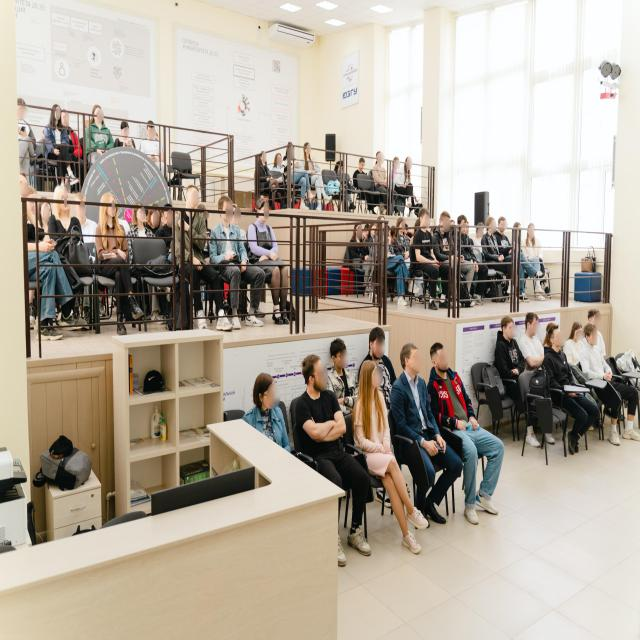Person: (297, 348, 371, 566), (357, 359, 425, 569), (432, 330, 500, 528), (392, 344, 456, 525), (496, 308, 552, 455), (542, 323, 594, 456), (211, 192, 264, 314), (90, 196, 143, 311), (584, 325, 632, 450), (243, 371, 296, 466), (52, 185, 94, 299), (252, 201, 290, 319), (182, 184, 211, 307), (412, 206, 444, 308), (301, 138, 341, 214), (321, 334, 364, 404), (432, 209, 460, 311), (48, 100, 80, 184), (516, 306, 552, 380), (495, 208, 519, 302), (13, 94, 36, 191), (456, 214, 480, 302), (286, 140, 313, 218), (528, 213, 552, 300), (481, 212, 508, 288), (366, 324, 393, 391), (368, 142, 392, 208), (511, 220, 531, 296), (402, 151, 422, 216), (141, 120, 164, 173), (90, 102, 114, 150), (394, 213, 411, 276), (74, 193, 98, 237), (388, 148, 404, 208), (36, 198, 58, 232), (146, 201, 164, 241), (568, 316, 582, 361), (356, 152, 369, 200), (582, 306, 606, 331), (474, 218, 489, 253), (119, 119, 131, 158), (164, 203, 177, 236)
